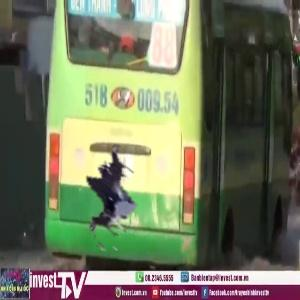drone: (50, 135, 155, 240)
